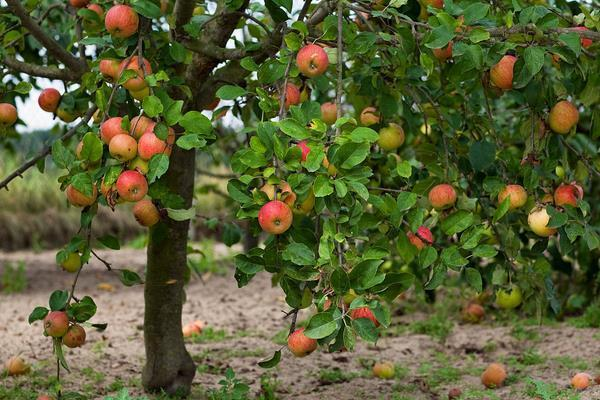apple: (103, 4, 138, 40), (257, 200, 292, 234), (296, 43, 328, 78), (488, 52, 516, 91), (118, 57, 150, 91), (115, 168, 147, 201), (550, 100, 579, 132), (286, 327, 317, 356), (131, 197, 160, 228), (527, 203, 552, 237), (137, 130, 165, 160), (63, 182, 96, 207), (494, 183, 527, 208), (108, 132, 136, 161), (375, 122, 403, 151), (42, 310, 69, 338), (99, 116, 126, 144), (553, 182, 582, 206), (428, 183, 455, 208), (37, 86, 60, 112), (61, 323, 85, 347), (429, 39, 453, 61), (53, 101, 75, 122), (359, 106, 382, 125), (98, 58, 118, 78), (319, 101, 336, 124), (283, 83, 299, 104), (1, 102, 16, 124)
